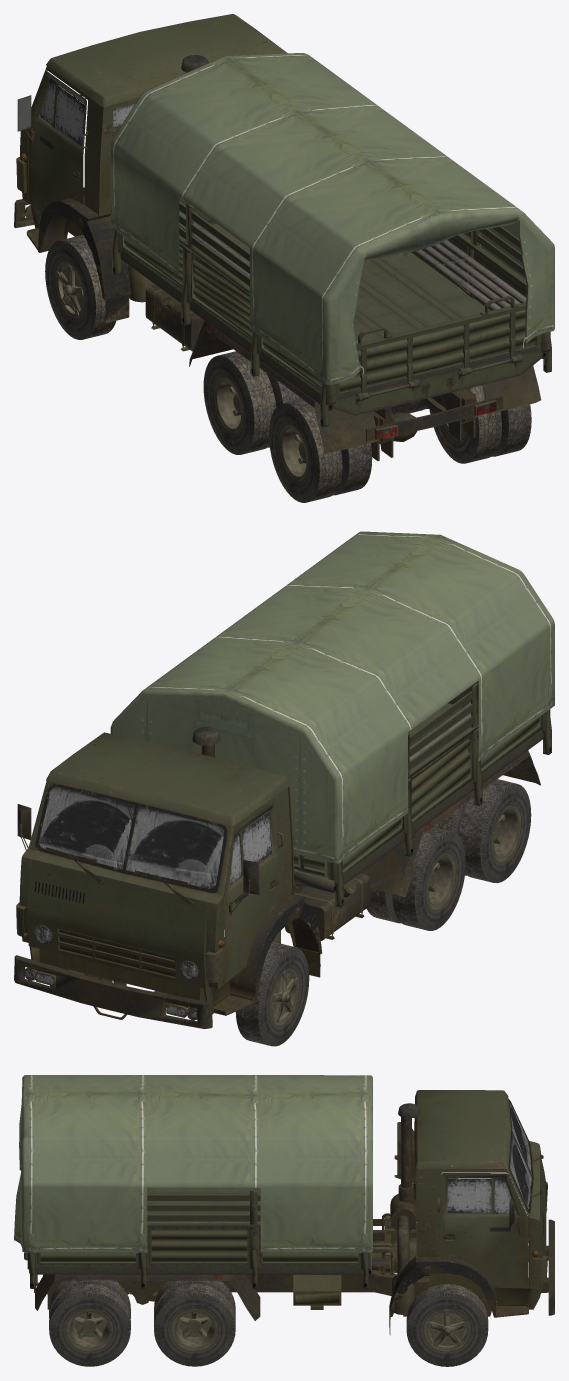
The model's file is kamaz.glb.
3 renders of one model, top to bottom at view 1: azimuth 30°, elevation 25°; view 2: azimuth 150°, elevation 25°; view 3: azimuth 270°, elevation 25°, orthographic. The views are drawn at different scales.
Parts seen in each view (by area): view 1: Object_10, Object_6, Object_8, Object_5, Object_4; view 2: Object_10, Object_8, Object_5, Object_4, Object_6; view 3: Object_10, Object_8, Object_5, Object_6, Object_4.
Part boxes in pixels (x1,y1,x2,y2): Object_10: [110, 53, 554, 385]; Object_6: [112, 196, 551, 427]; Object_8: [14, 14, 541, 460]; Object_5: [45, 235, 531, 502]; Object_4: [40, 78, 135, 145]; Object_10: [110, 531, 554, 863]; Object_8: [14, 727, 540, 1028]; Object_5: [49, 779, 531, 1046]; Object_4: [25, 787, 271, 1019]; Object_6: [231, 681, 551, 907]; Object_10: [14, 1075, 372, 1252]; Object_8: [31, 1090, 554, 1335]; Object_5: [49, 1223, 488, 1366]; Object_6: [24, 1187, 371, 1288]; Object_4: [447, 1103, 547, 1213].
Size of the model in its own units: 2.93 by 3.35 by 7.08.
5 materials, 5 textured.
